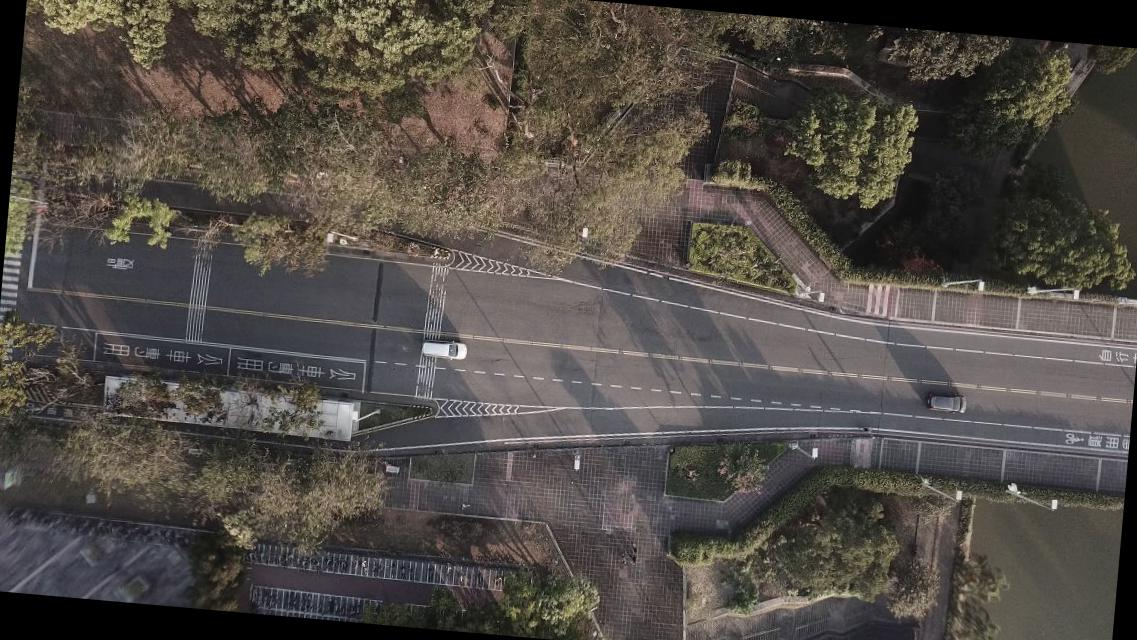vehicle: (420, 337, 467, 363), (924, 392, 966, 414)
